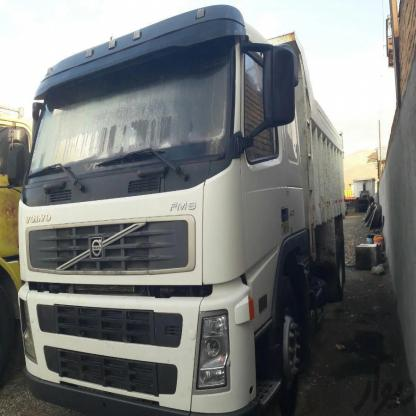Truck: (23, 33, 355, 416)
